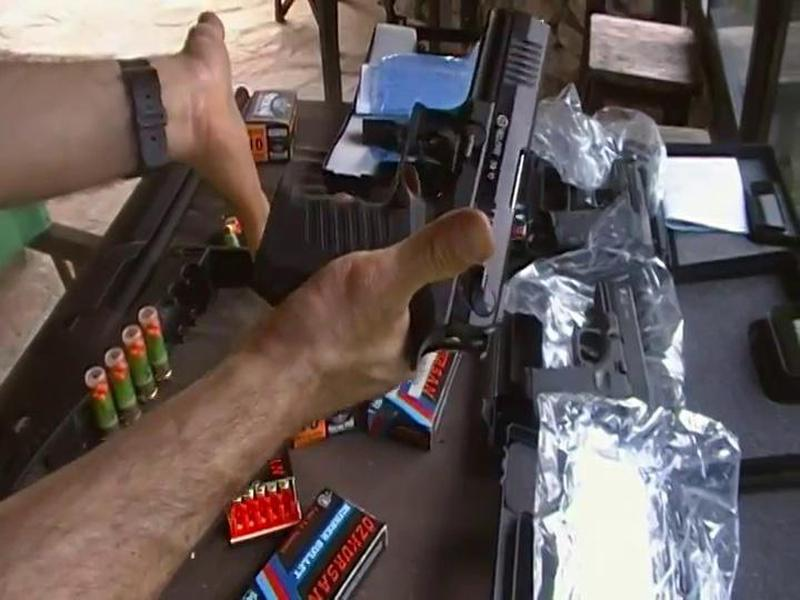Pistola: (227, 8, 572, 366)
